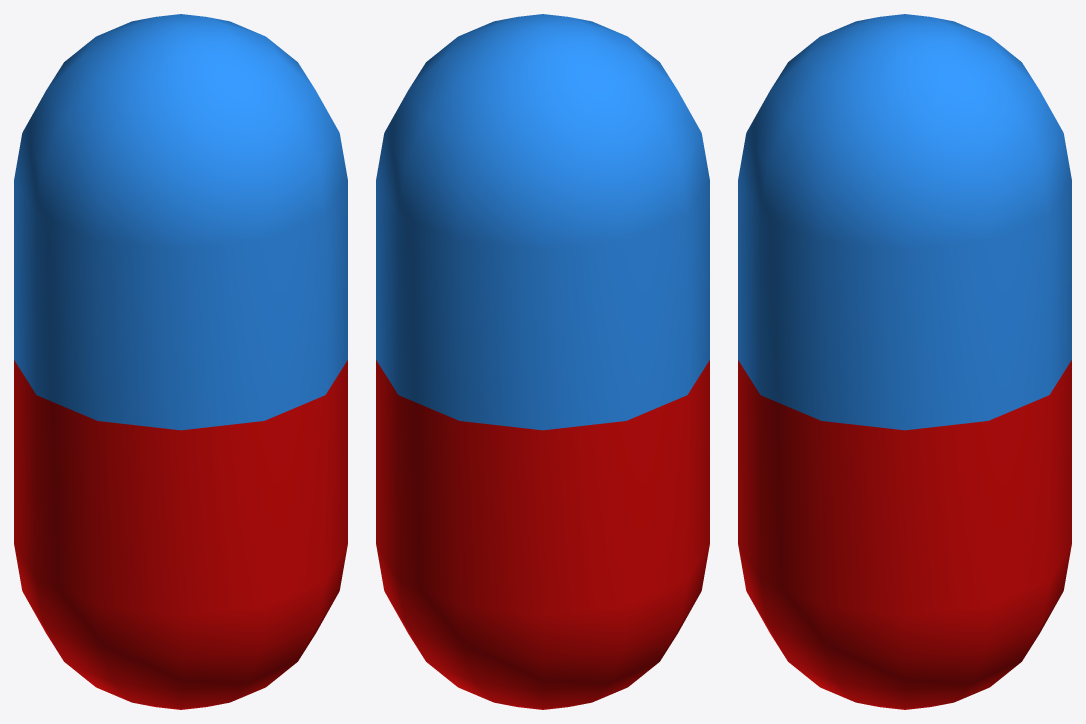
File: ImposterEscape_medicine.fbx
3 renders of one model, left to right at view 1: azimuth 30°, elevation 25°; view 2: azimuth 150°, elevation 25°; view 3: azimuth 270°, elevation 25°, orthographic.
Parts seen in each view (by area): view 1: ImposterEscape_medicine_geo; view 2: ImposterEscape_medicine_geo; view 3: ImposterEscape_medicine_geo.
Part boxes in pixels (x1,y1,x2,y2): ImposterEscape_medicine_geo: (14,14,347,709); ImposterEscape_medicine_geo: (376,14,709,709); ImposterEscape_medicine_geo: (738,14,1071,709).
Bounding box in the file's own units: 1.28 × 2.81 × 1.28.
Materials: 1 (1 with a texture image).
